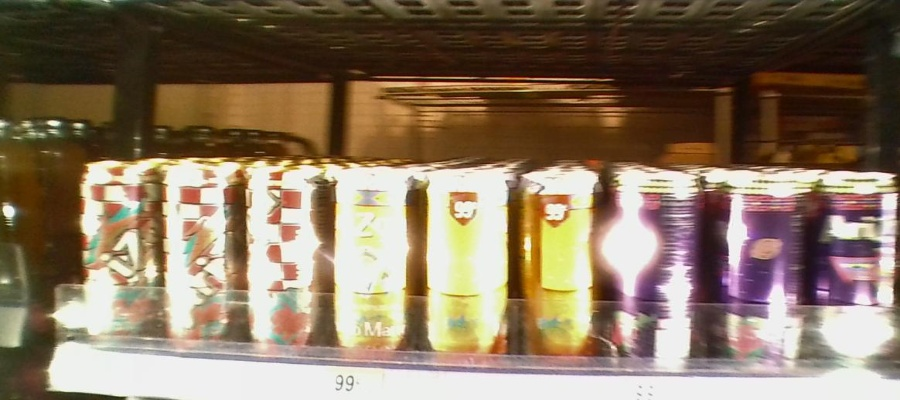bottle: (708, 169, 806, 376), (608, 163, 705, 369), (809, 160, 900, 377), (422, 158, 513, 368), (329, 152, 420, 360), (514, 161, 605, 369), (244, 147, 328, 353), (78, 151, 161, 346), (162, 152, 241, 350)
